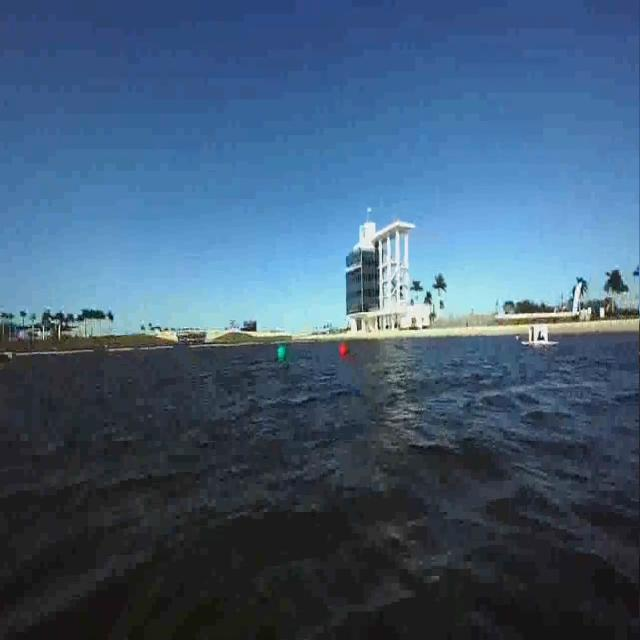green-buoy: (277, 346, 288, 362)
red-buoy: (339, 342, 349, 360)
